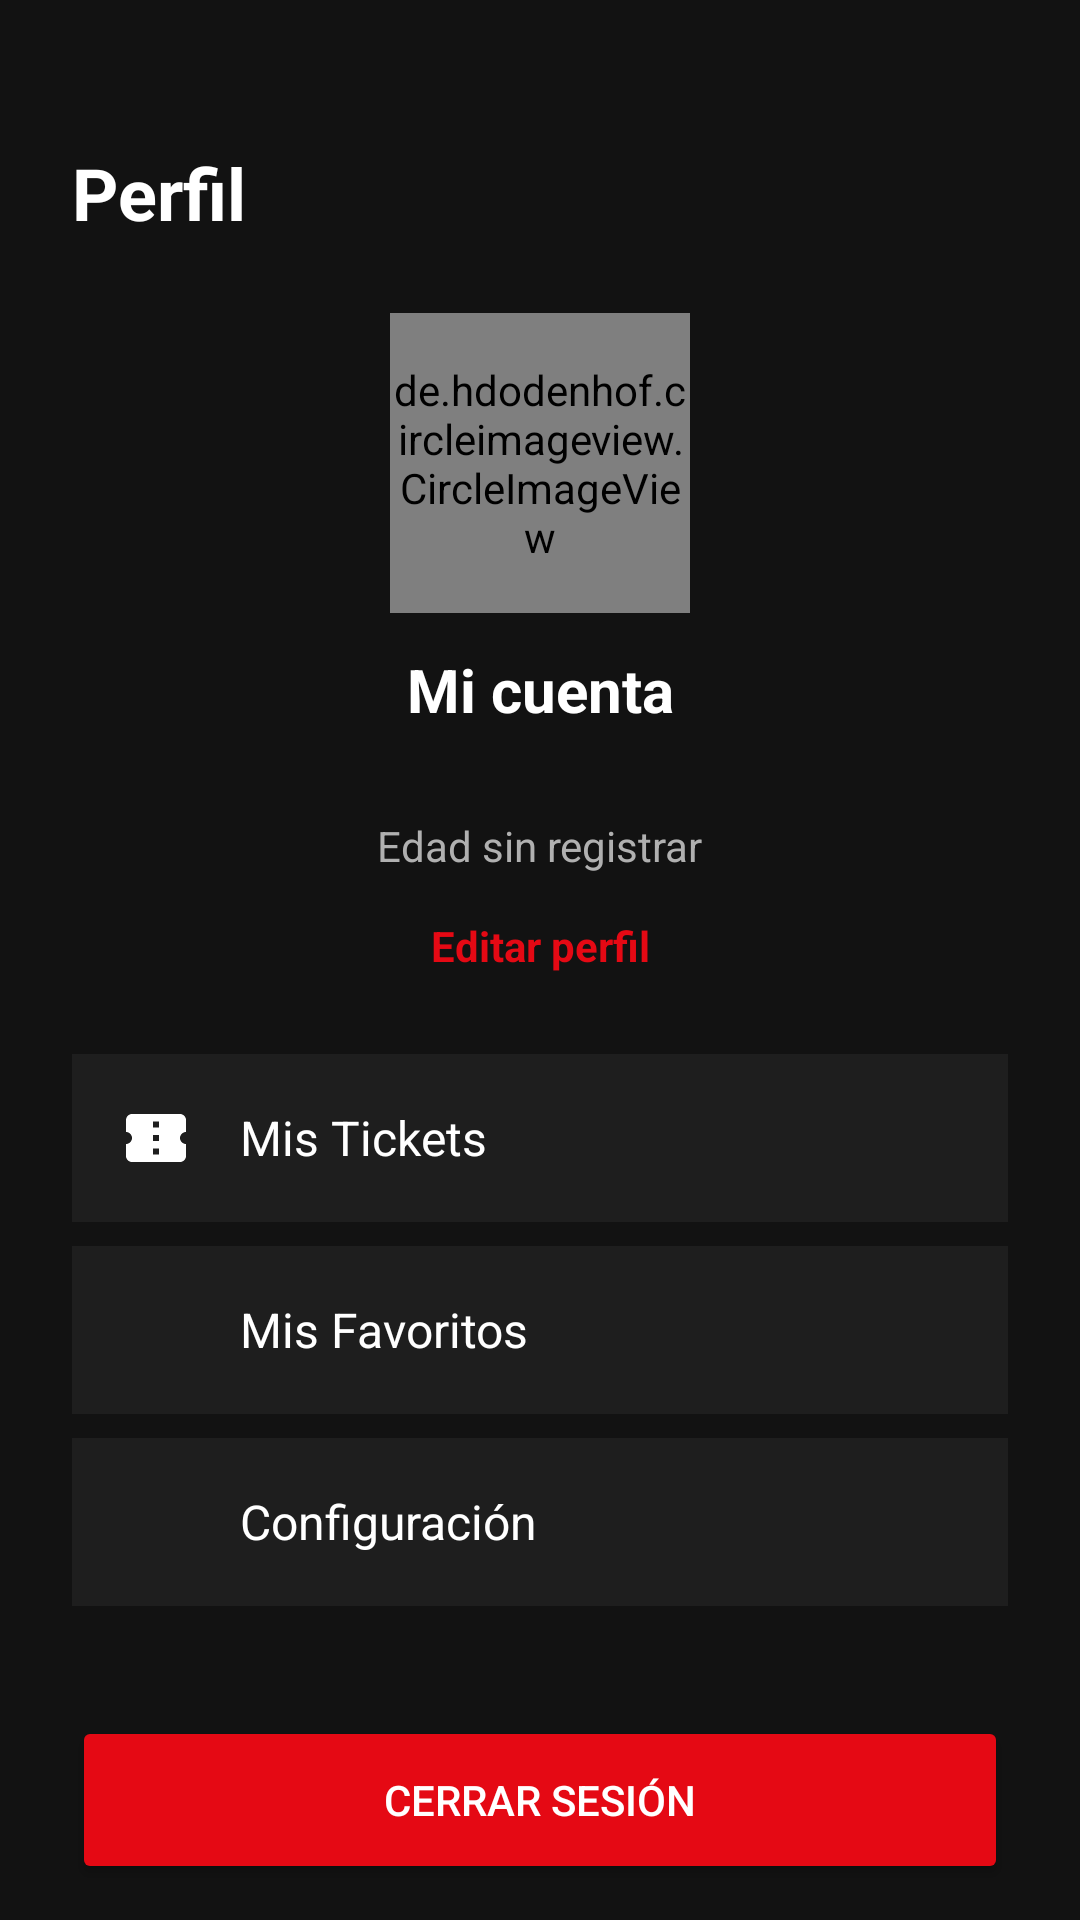

Where to tap for icons on this 1080 x 1920 app screen, as point (x, y):
boleto: point (156, 1138)
